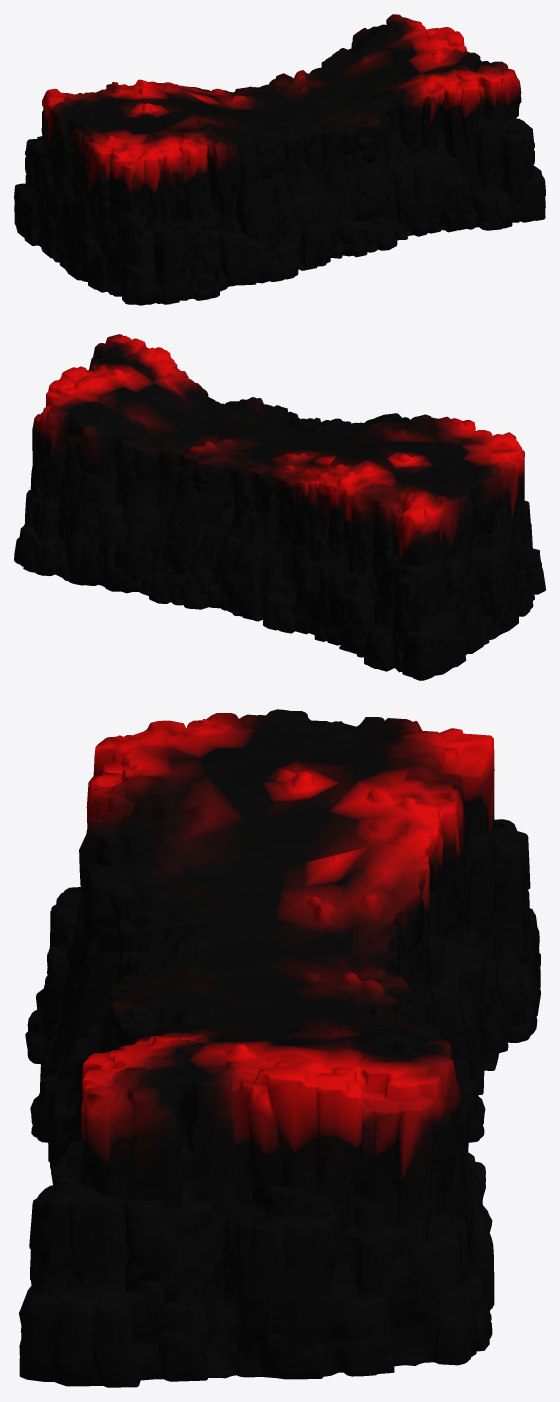
The model's file is OuterBank_03_Collapse_v2.fbx.
3 renders of one model, top to bottom at view 1: azimuth 30°, elevation 25°; view 2: azimuth 150°, elevation 25°; view 3: azimuth 270°, elevation 25°, orthographic. The views are drawn at different scales.
Parts seen in each view (by area): view 1: OuterBank_03_Collapse_v2; view 2: OuterBank_03_Collapse_v2; view 3: OuterBank_03_Collapse_v2.
Boxes of the visible parts, x1,y1,x2,y2 form: OuterBank_03_Collapse_v2: (14,14,545,305); OuterBank_03_Collapse_v2: (14,334,545,680); OuterBank_03_Collapse_v2: (19,709,540,1387).
Size of the model in its own units: 11000 by 3581 by 5874.
